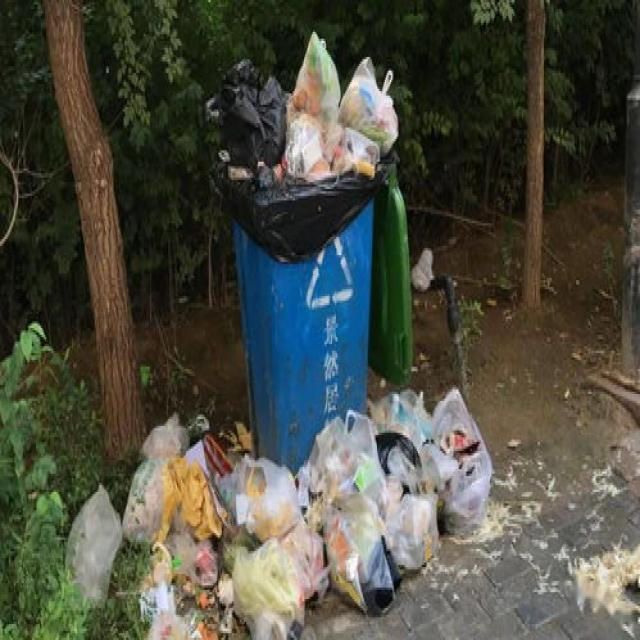garbage: (65, 382, 490, 638)
overflow: (202, 30, 374, 469)
